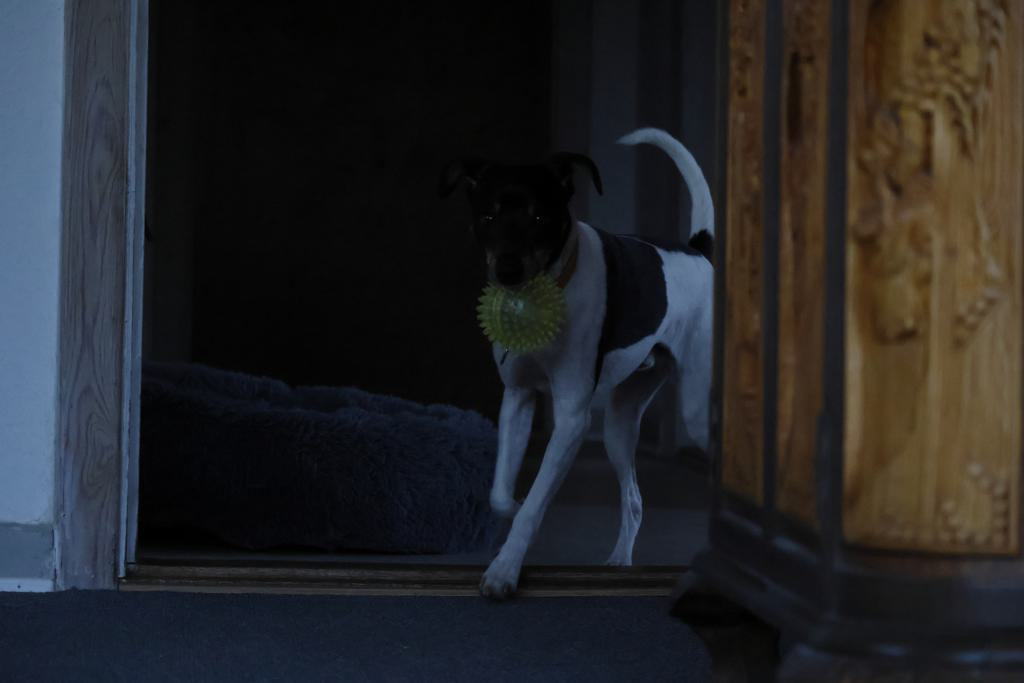Dog: (428, 114, 726, 616)
